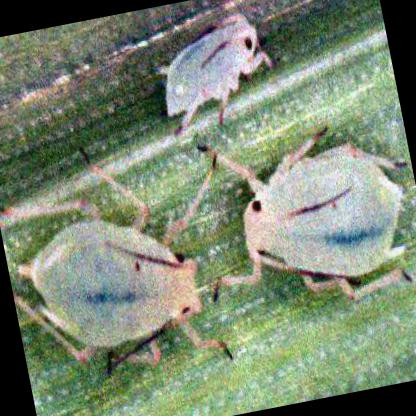schizaphis graminum: (6, 159, 229, 364), (211, 125, 407, 300), (164, 15, 268, 134)
